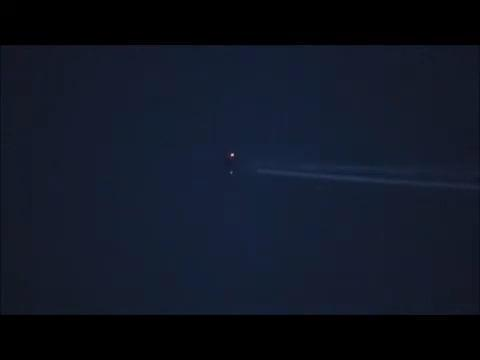Plane: (184, 139, 479, 207)
